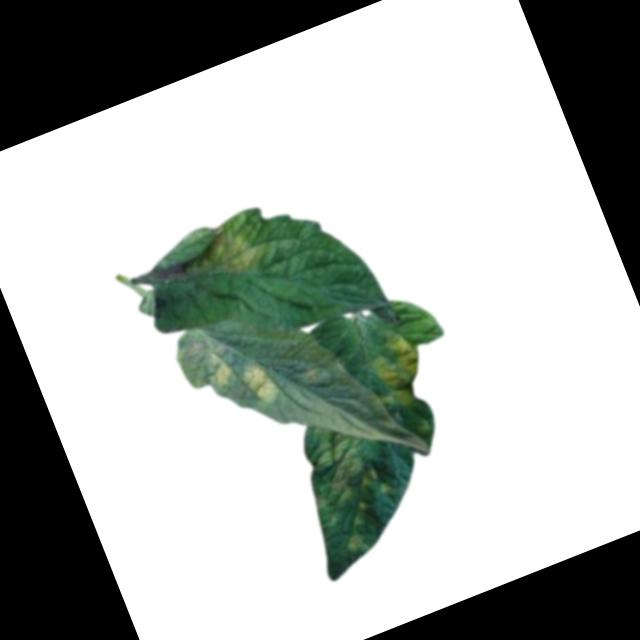Leaf_Mold: (359, 328, 437, 418), (184, 213, 268, 294), (303, 423, 376, 498), (234, 354, 285, 416), (196, 349, 237, 395)
